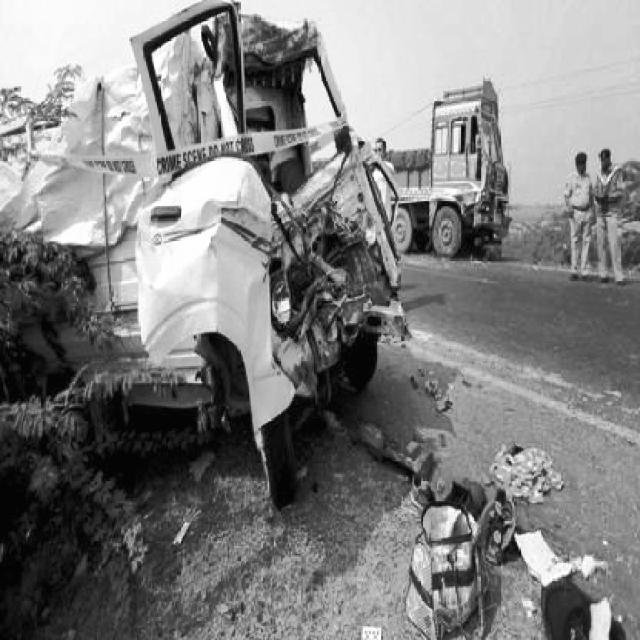HCV: (342, 97, 528, 238)
